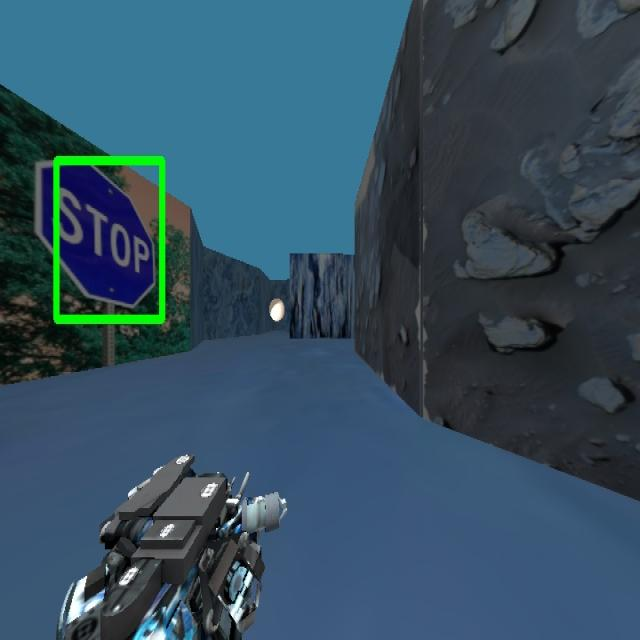Circle: (268, 298, 284, 322)
Stop_Sign: (51, 152, 166, 325)
